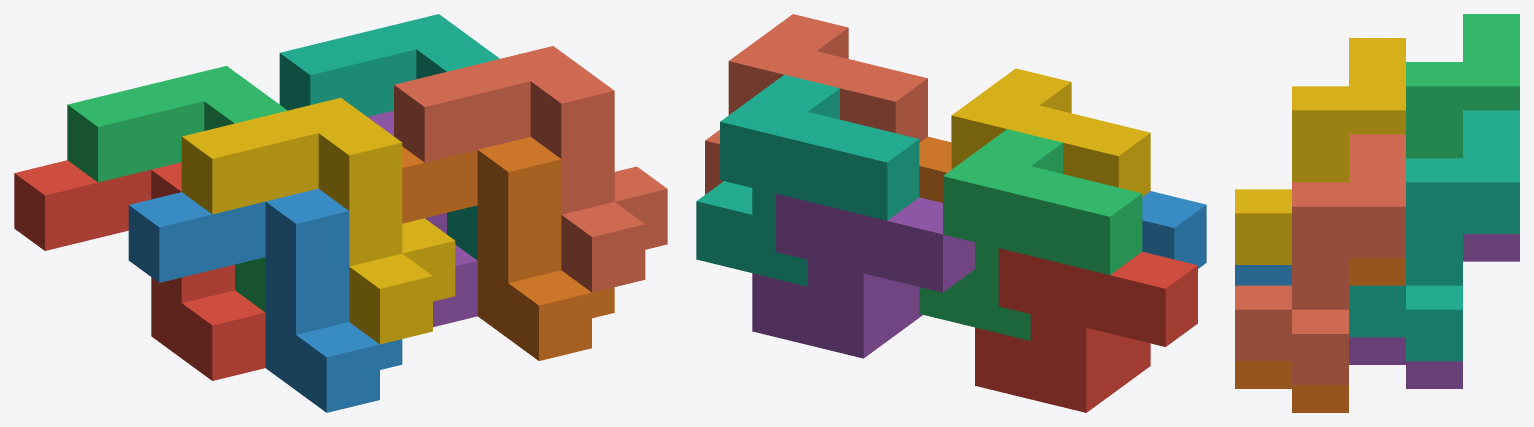
Rendered from tiling.obj.
3 renders of one model, left to right at view 1: azimuth 30°, elevation 25°; view 2: azimuth 150°, elevation 25°; view 3: azimuth 270°, elevation 25°, orthographic. The views are drawn at different scales.
Parts seen in each view (by area): view 1: copy_1_domain_4, copy_1_domain_8, copy_1_domain_2, copy_1_domain_6, copy_1_domain_1, copy_1_domain_3, copy_1_domain_7, copy_1_domain_5; view 2: copy_1_domain_7, copy_1_domain_1, copy_1_domain_3, copy_1_domain_5, copy_1_domain_8, copy_1_domain_4, copy_1_domain_2, copy_1_domain_6; view 3: copy_1_domain_8, copy_1_domain_7, copy_1_domain_4, copy_1_domain_3, copy_1_domain_5, copy_1_domain_6, copy_1_domain_2.
Boxes of the visible parts, x1,y1,x2,y2 form: copy_1_domain_4: (181, 97, 455, 344); copy_1_domain_8: (394, 46, 667, 292); copy_1_domain_2: (128, 188, 402, 412); copy_1_domain_6: (402, 137, 614, 360); copy_1_domain_1: (14, 160, 265, 380); copy_1_domain_3: (67, 66, 287, 312); copy_1_domain_7: (279, 14, 499, 260); copy_1_domain_5: (368, 110, 477, 326); copy_1_domain_7: (696, 74, 919, 286); copy_1_domain_1: (975, 248, 1197, 412); copy_1_domain_3: (919, 129, 1142, 340); copy_1_domain_5: (752, 194, 974, 358); copy_1_domain_8: (705, 14, 927, 194); copy_1_domain_4: (951, 68, 1150, 196); copy_1_domain_2: (1142, 191, 1206, 268); copy_1_domain_6: (919, 136, 951, 202); copy_1_domain_8: (1235, 134, 1405, 385); copy_1_domain_7: (1349, 110, 1519, 361); copy_1_domain_4: (1235, 38, 1405, 264); copy_1_domain_3: (1406, 14, 1519, 158); copy_1_domain_5: (1349, 234, 1519, 388); copy_1_domain_6: (1235, 258, 1405, 412); copy_1_domain_2: (1235, 265, 1291, 285).
Bounding box in the file's own units: 10 × 4 × 5.
